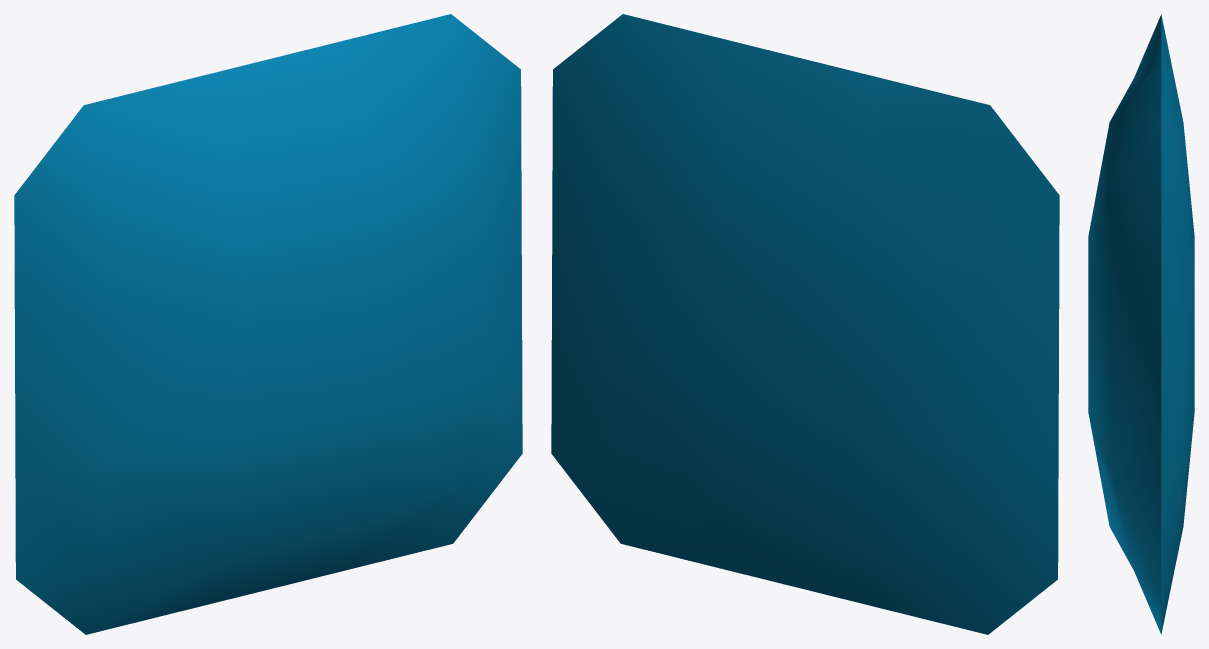
The model's file is BlueCushion.glb.
The picture shows the model from 3 angles, left to right: view 1: azimuth 30°, elevation 25°; view 2: azimuth 150°, elevation 25°; view 3: azimuth 270°, elevation 25°; orthographic projection. The views are drawn at different scales.
Visible parts, largest first — view 1: cushion; view 2: cushion; view 3: cushion.
Boxes of the visible parts, x1,y1,x2,y2 form: cushion: [14, 14, 522, 634]; cushion: [551, 14, 1059, 634]; cushion: [1088, 14, 1194, 634].
Bounding box in the file's own units: 0.6322 × 0.6322 × 0.1306.
Materials: 1 (1 with a texture image).
